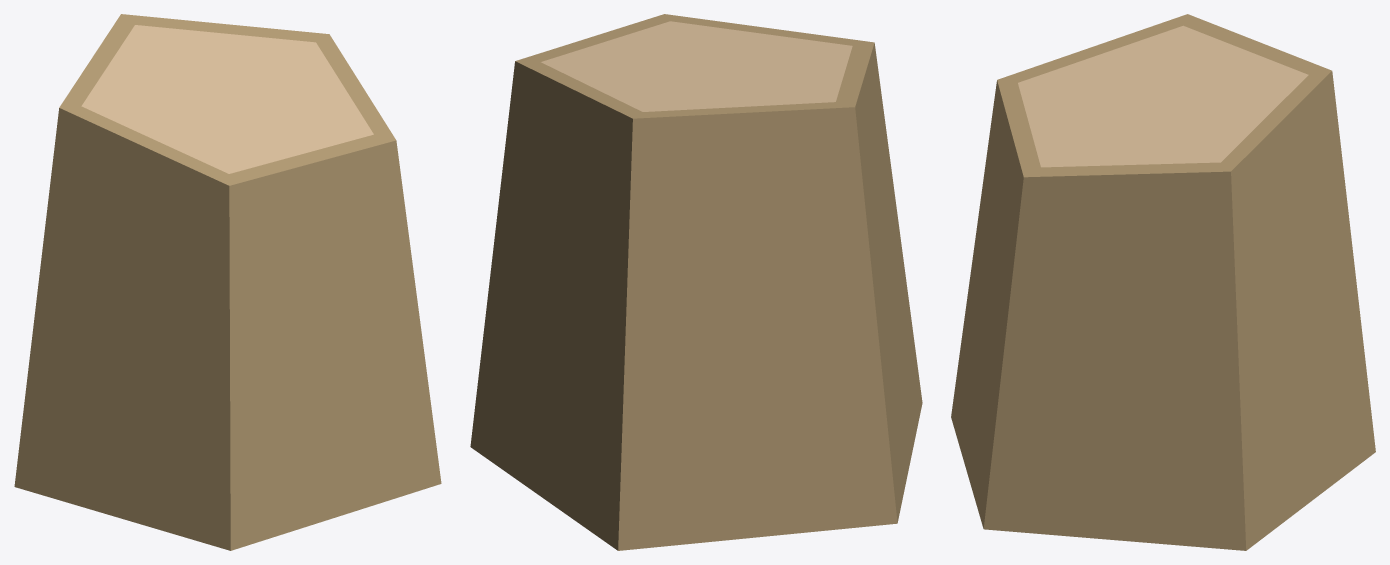
File: Random_Stump_02_LOD.fbx
The picture shows the model from 3 angles, left to right: view 1: azimuth 30°, elevation 25°; view 2: azimuth 150°, elevation 25°; view 3: azimuth 270°, elevation 25°; orthographic projection. The views are drawn at different scales.
Parts seen in each view (by area): view 1: Random_Stump_02_LOD0; view 2: Random_Stump_02_LOD0; view 3: Random_Stump_02_LOD0.
Part boxes in pixels (x1,y1,x2,y2): Random_Stump_02_LOD0: (14, 14, 441, 550); Random_Stump_02_LOD0: (470, 14, 922, 550); Random_Stump_02_LOD0: (951, 14, 1375, 550).
Size of what is drawn, in the model's own units: 68.03 by 67.32 by 67.29.
